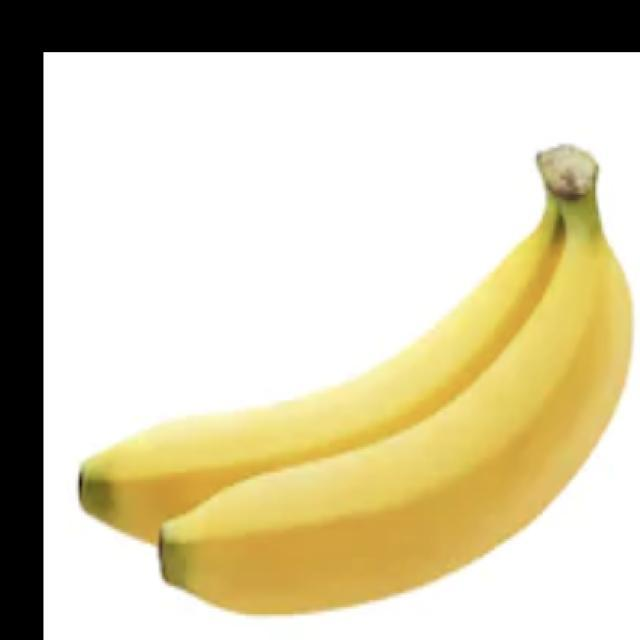Banana: (77, 142, 633, 616)
